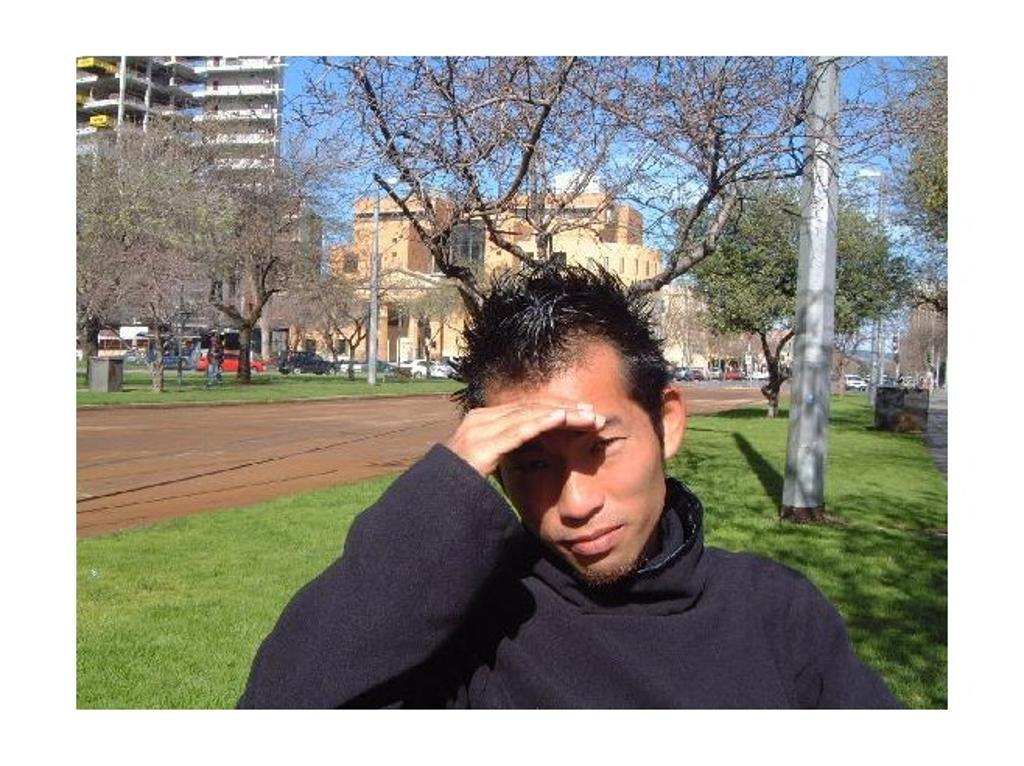face: (478, 348, 654, 582)
